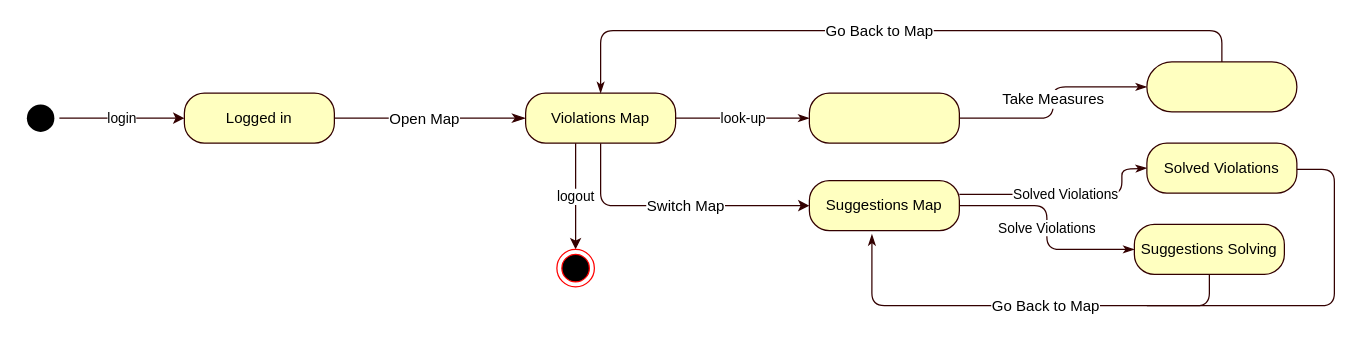
Some shapes in this 1358 by 338 pixel diagram are drawn without their labels. Each missing label, with the box of its shape:
Issue Fines: (1146, 61, 1297, 112)
Look Up ID: (808, 92, 959, 143)
